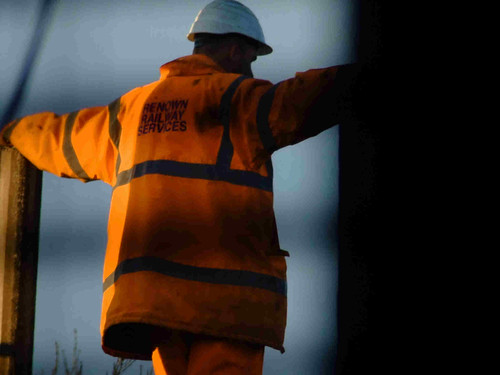person hardhat: (9, 3, 305, 371)
